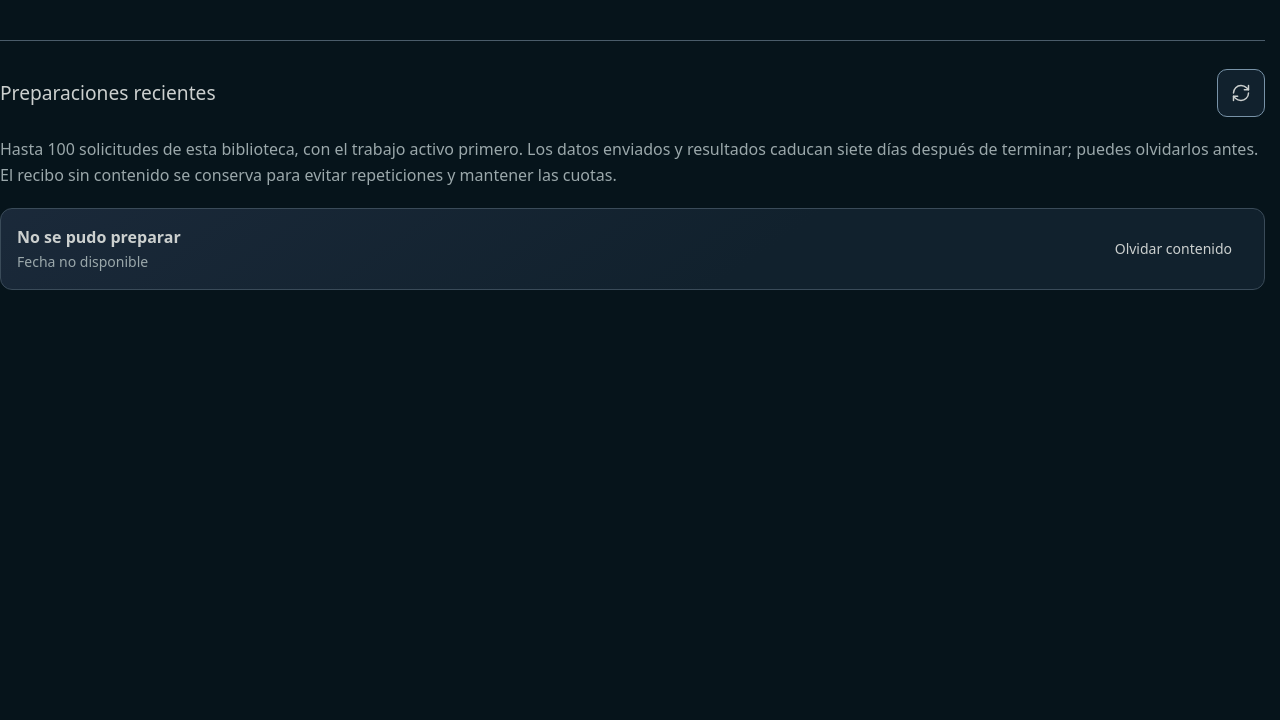
it: keeps the erasure confirmation open when the returned receipt belongs to a different library
Click the button with aria-label "Olvidar contenido de" at {"x": 1173, "y": 249}, box [1099,227,1248,271]
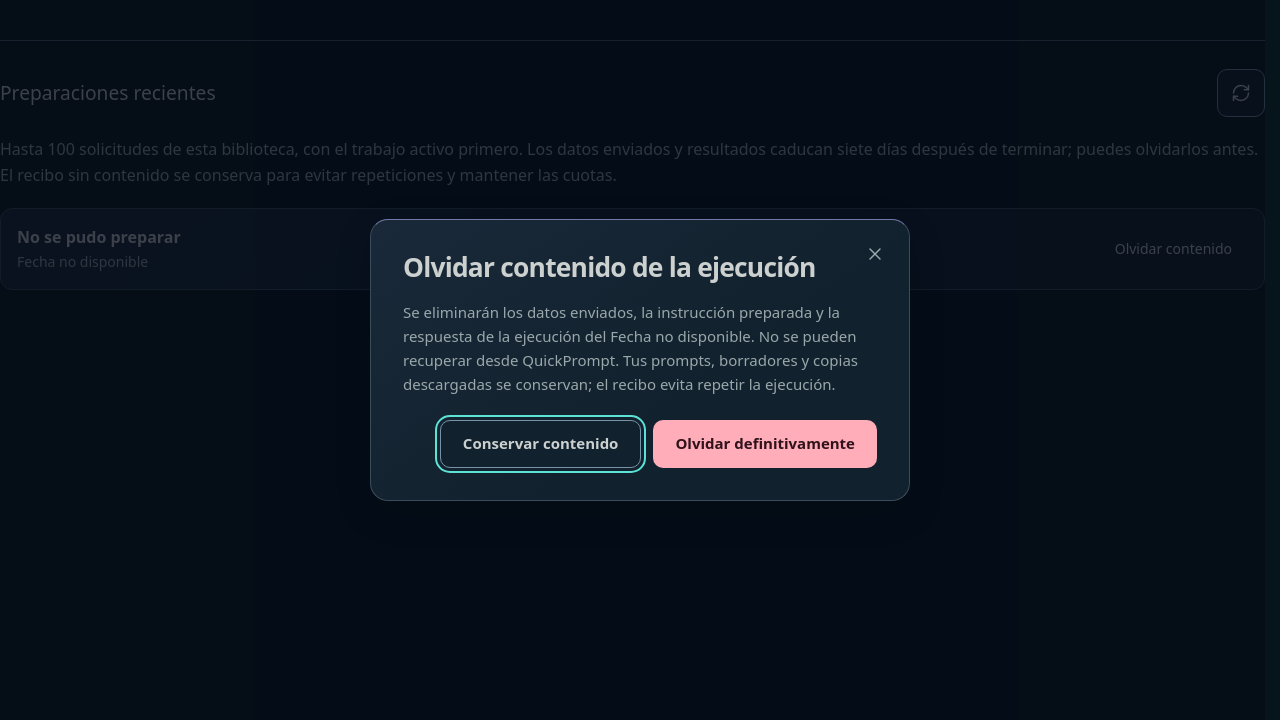
Click the button "Olvidar definitivamente" at {"x": 765, "y": 444}, box [653,420,877,468]
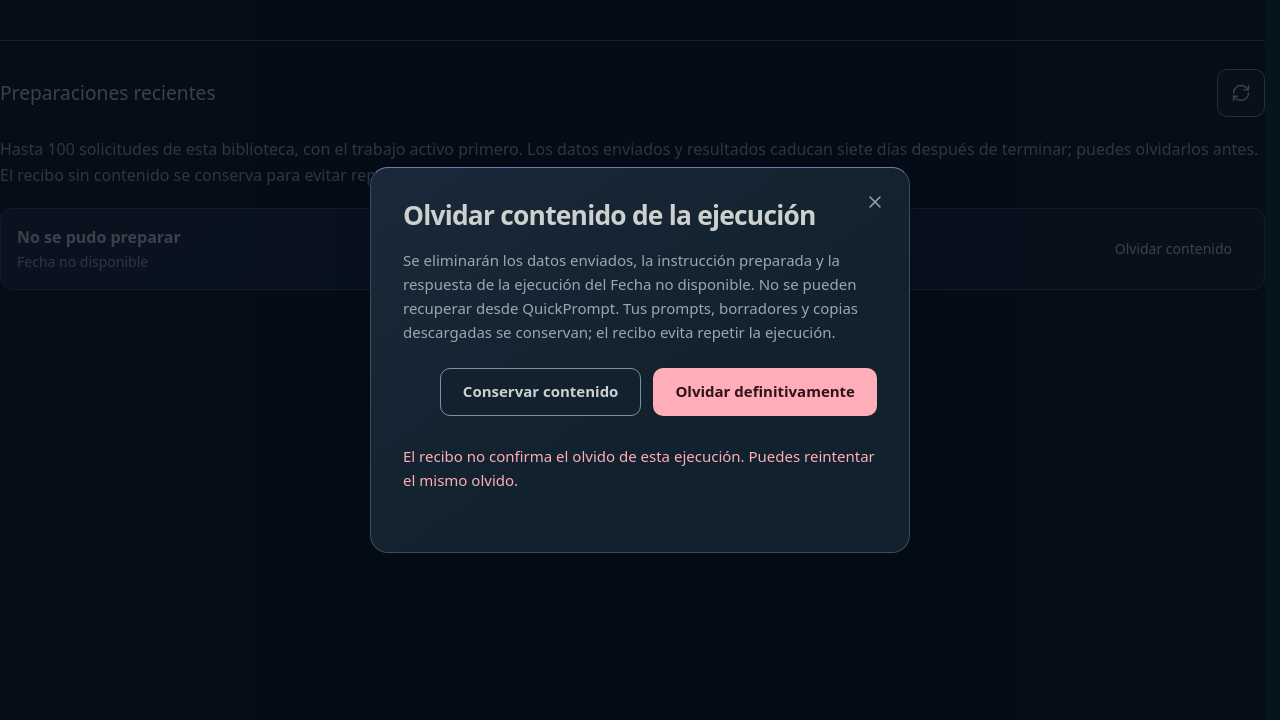
Now the text "El recibo no confirma" is shown, box [403,446,745,466]
